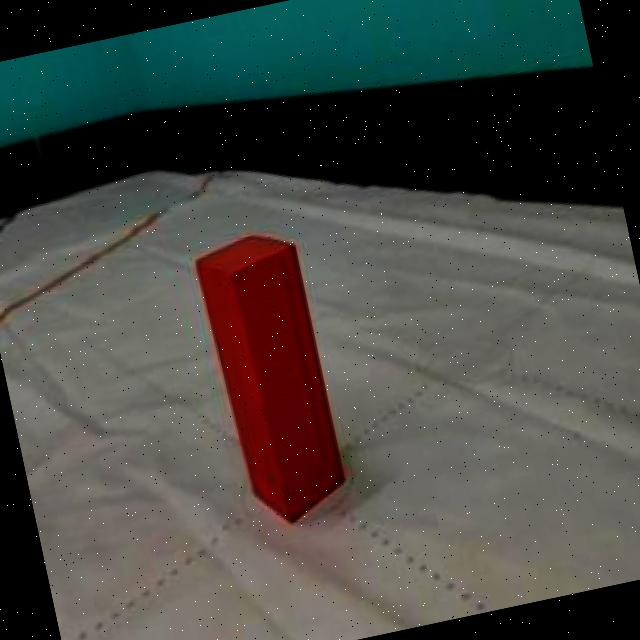redbox: (188, 220, 354, 532)
